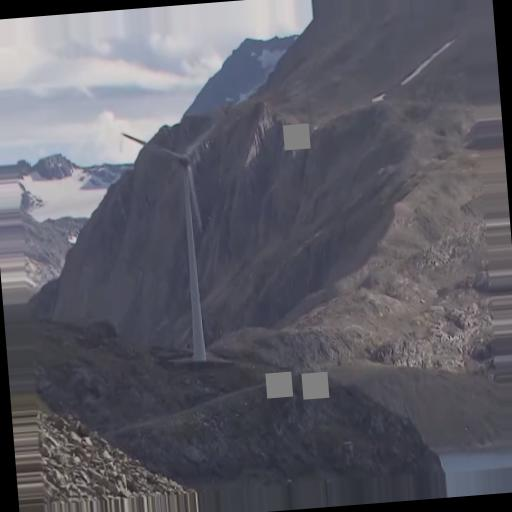wind turbine: (121, 118, 219, 364)
